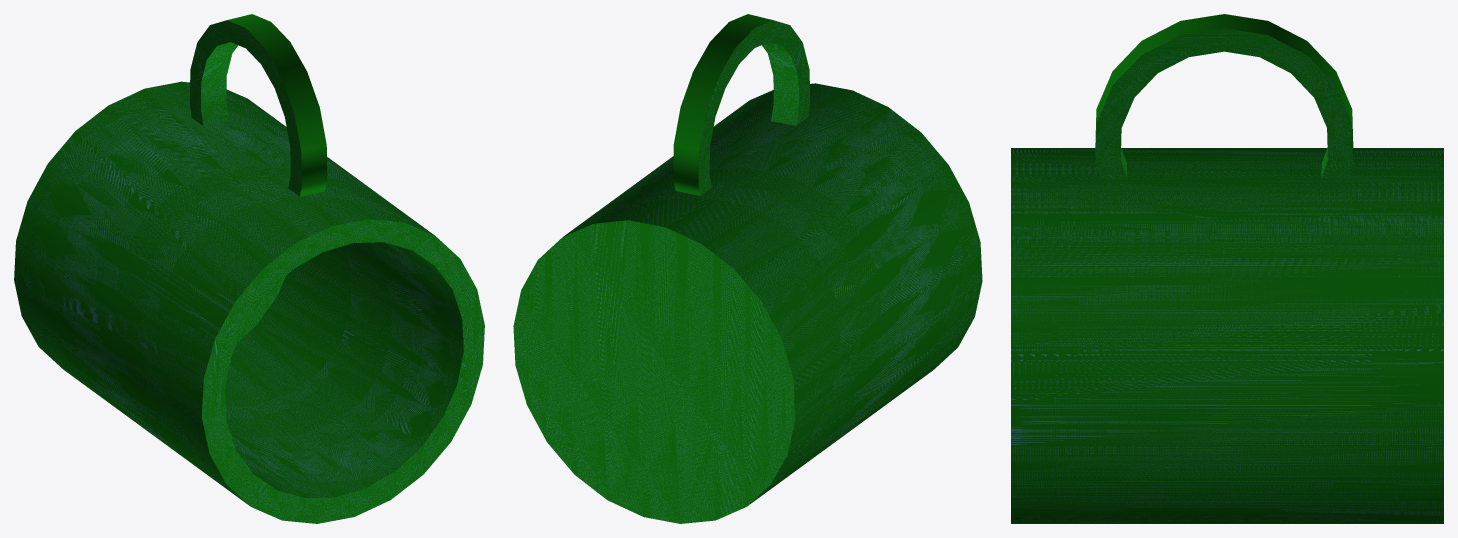
The model's file is model_scale.obj.
3 renders of one model, left to right at view 1: azimuth 30°, elevation 25°; view 2: azimuth 150°, elevation 25°; view 3: azimuth 270°, elevation 25°, orthographic. The views are drawn at different scales.
Parts seen in each view (by area): view 1: mesh1_mesh1-geometry, mesh2_mesh2-geometry; view 2: mesh1_mesh1-geometry, mesh2_mesh2-geometry; view 3: mesh1_mesh1-geometry, mesh2_mesh2-geometry.
Boxes of the visible parts, x1=… form: mesh1_mesh1-geometry: x1=14, y1=81, x2=484, y2=523; mesh2_mesh2-geometry: x1=190, y1=14, x2=327, y2=196; mesh1_mesh1-geometry: x1=513, y1=83, x2=982, y2=523; mesh2_mesh2-geometry: x1=673, y1=14, x2=809, y2=195; mesh1_mesh1-geometry: x1=1011, y1=148, x2=1443, y2=523; mesh2_mesh2-geometry: x1=1095, y1=14, x2=1353, y2=178.
Bounding box in the file's own units: 0.0906 × 0.1299 × 0.1041.
